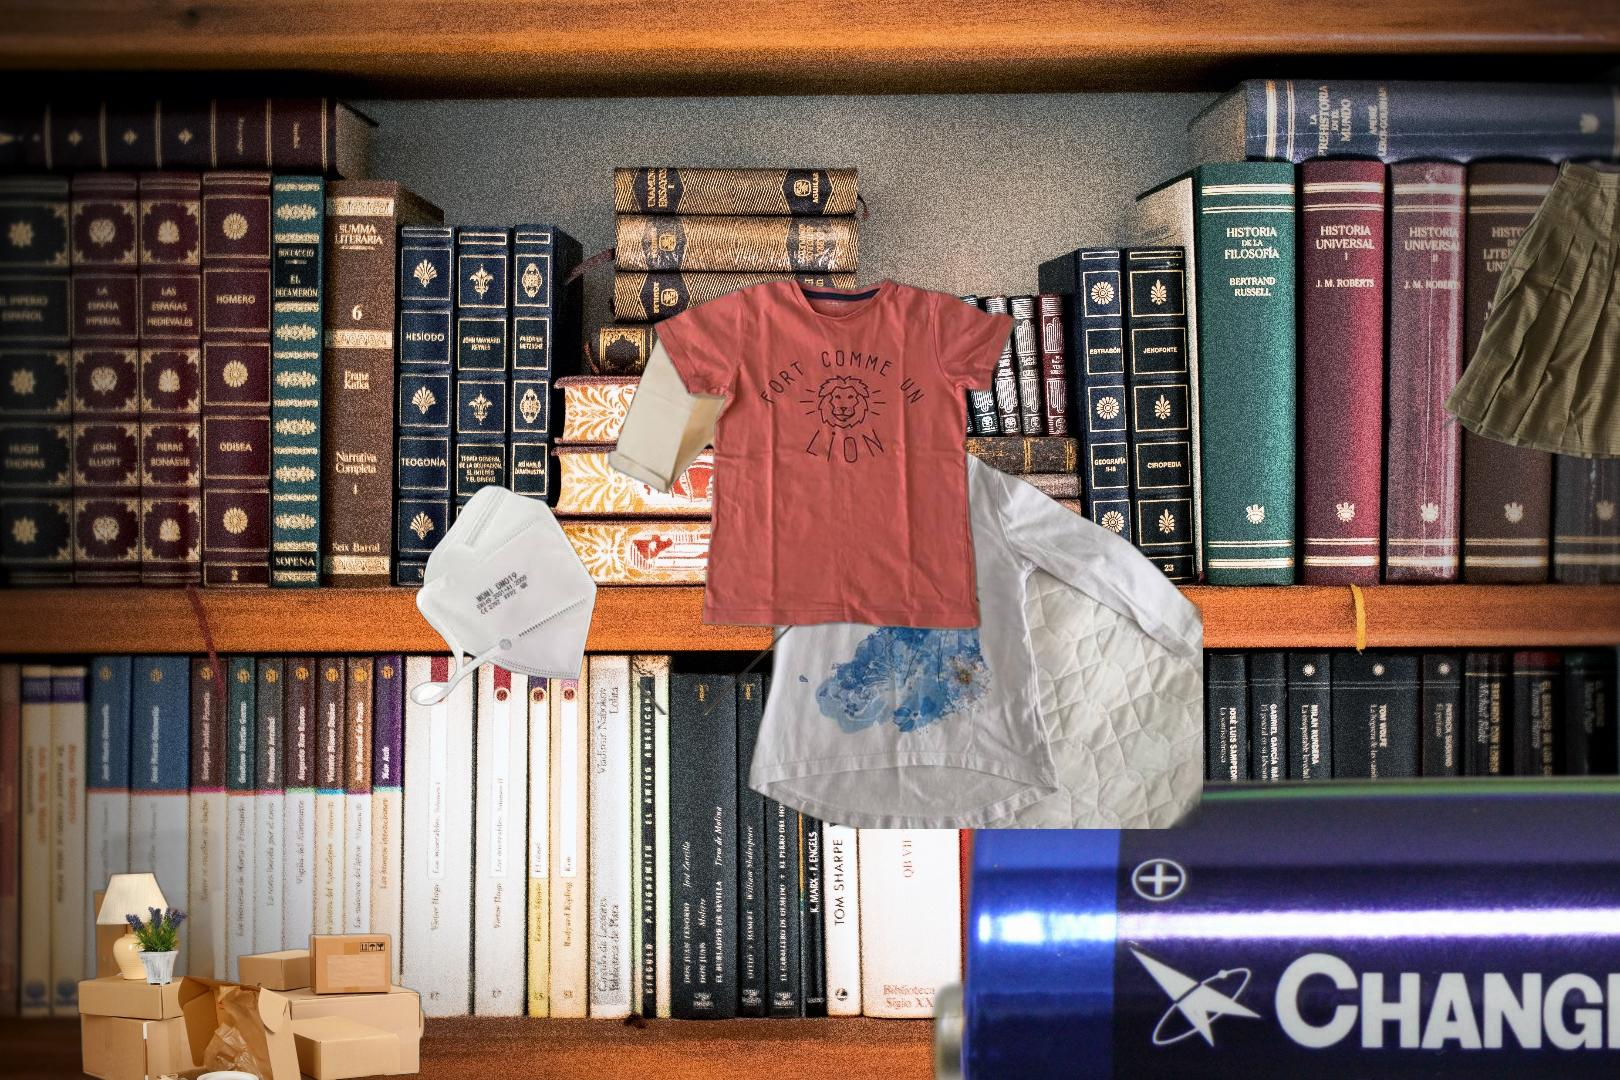battery: (916, 761, 1620, 1080)
clothes: (636, 182, 1022, 715), (742, 444, 1203, 829), (1440, 154, 1620, 464)
paper-bag: (605, 331, 793, 495)
trash: (407, 481, 600, 708)
trashbox-cardboard: (74, 826, 429, 1080)
